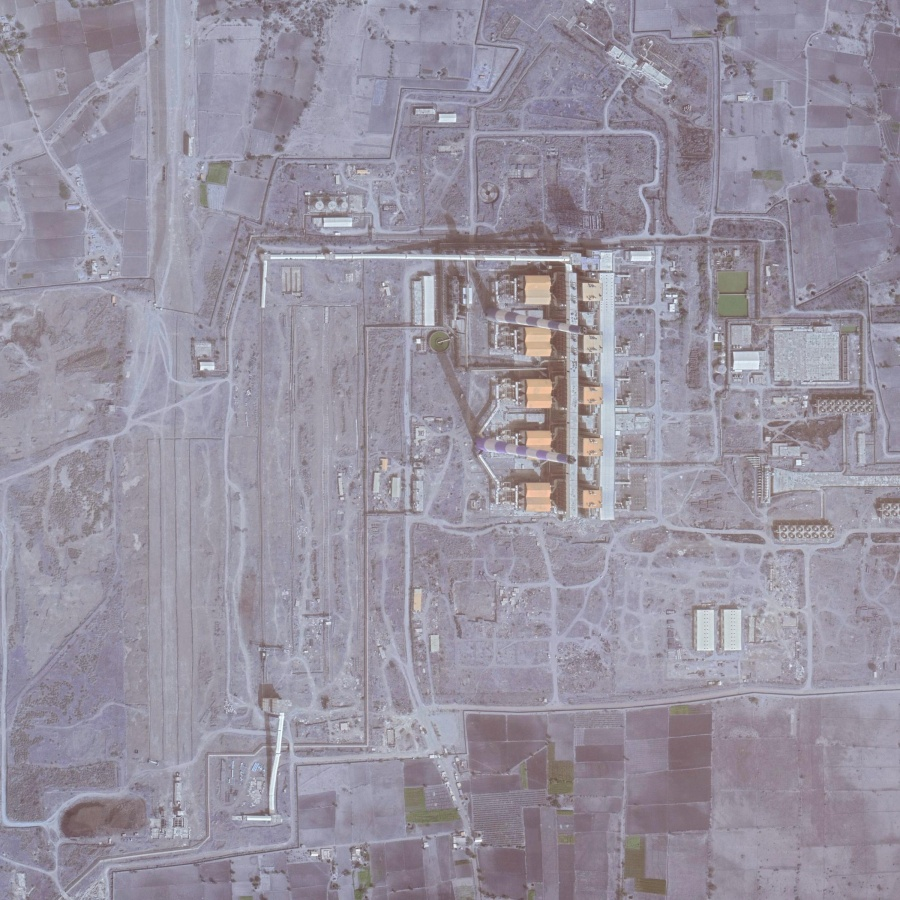PowerPlant: (246, 242, 875, 654)
